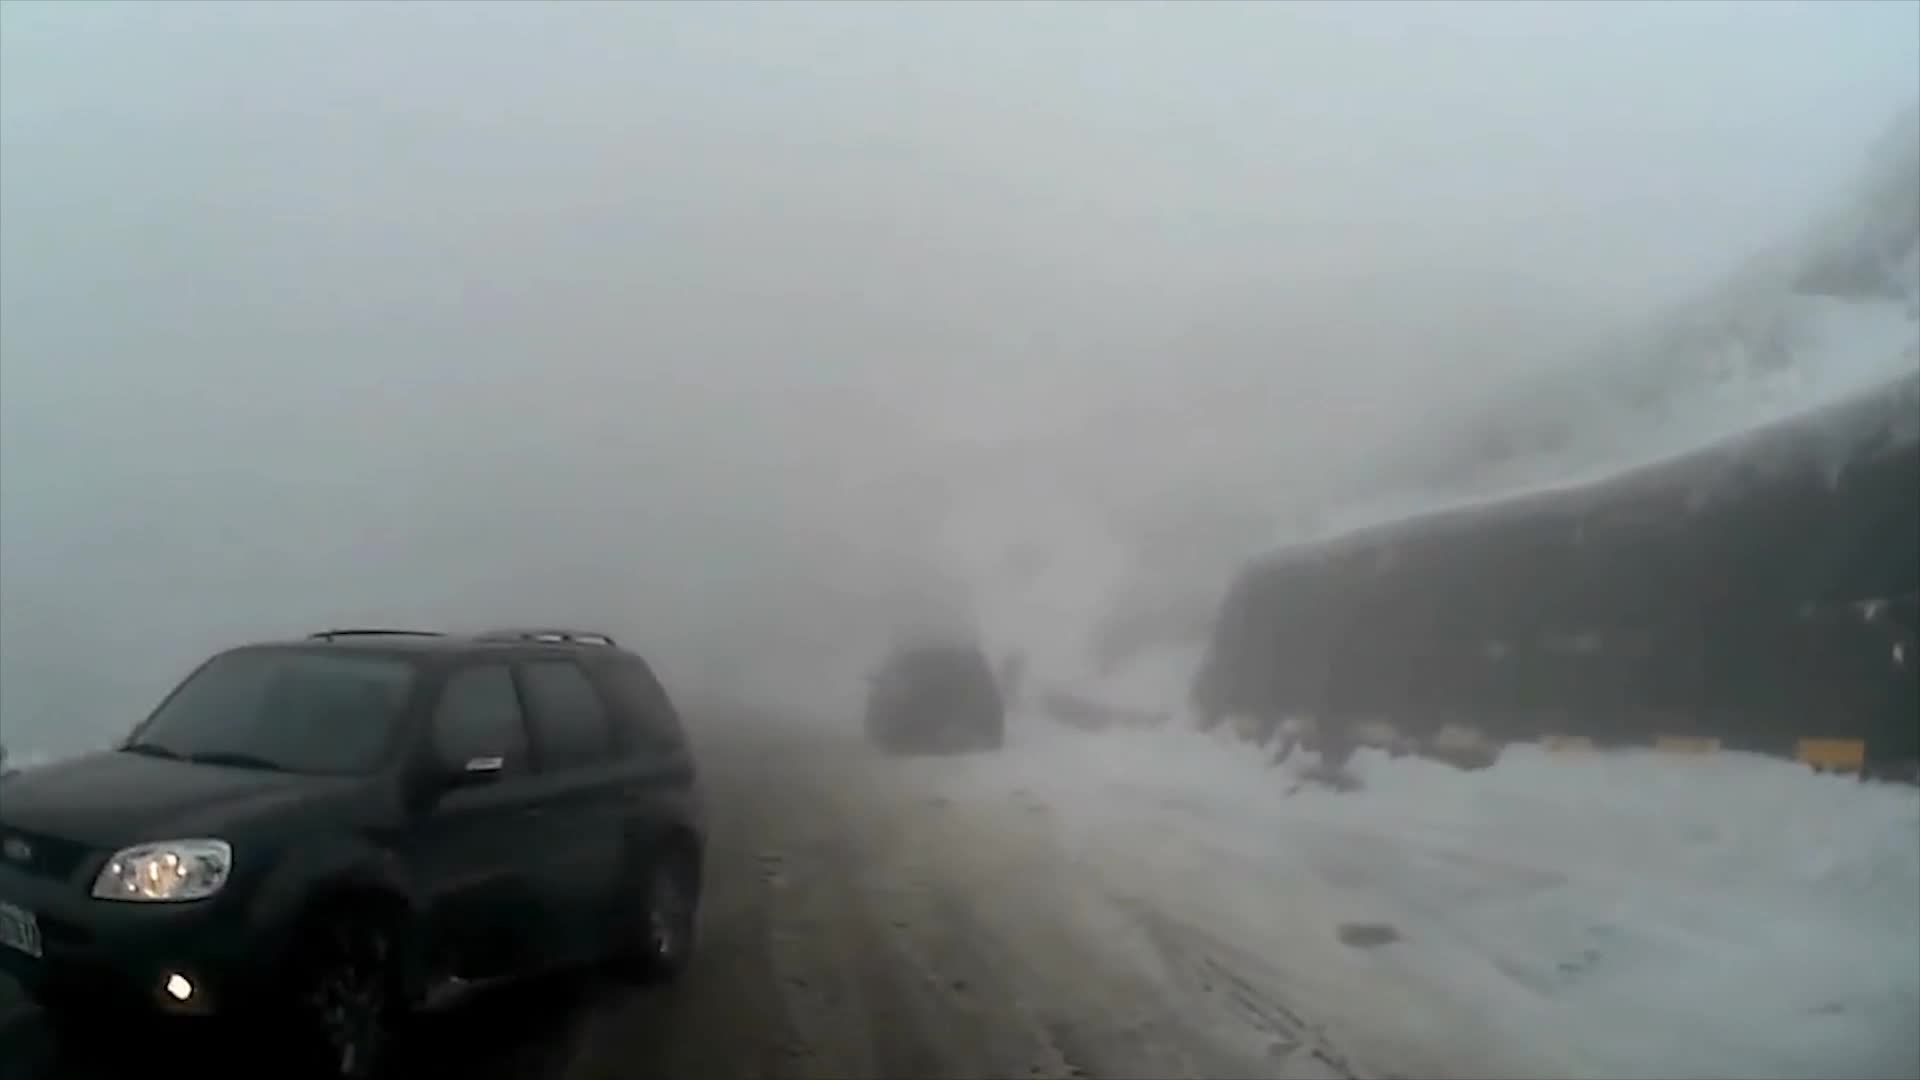vehicle: (0, 622, 704, 1071), (858, 634, 1002, 757)
